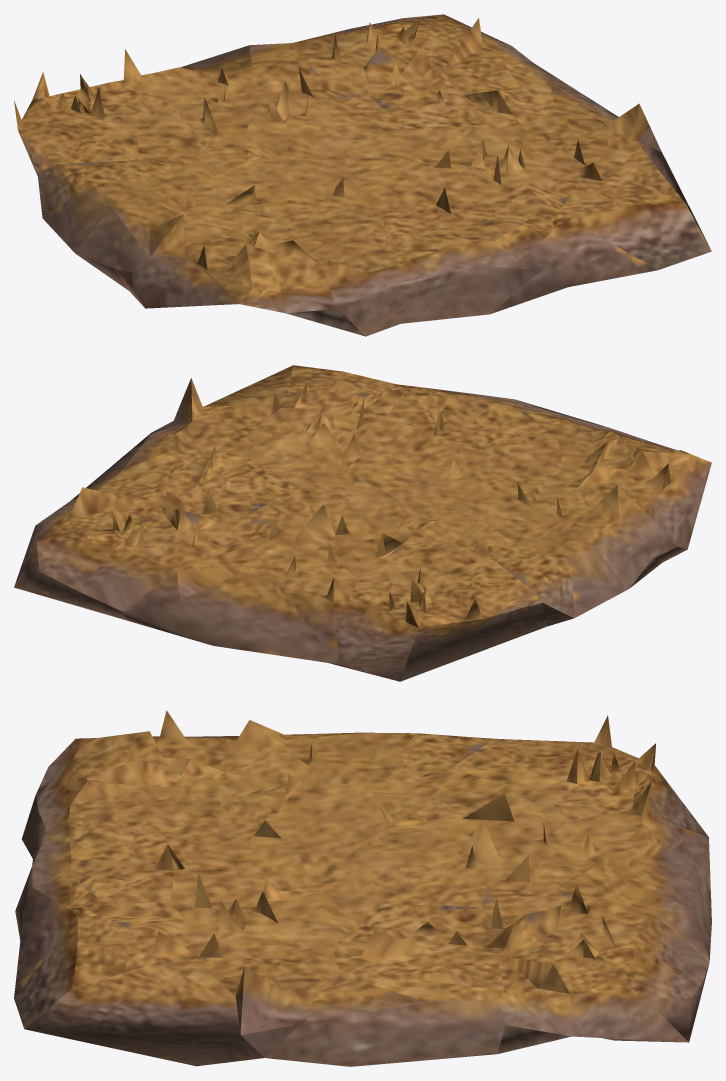
File: GrainPlot_lod.glb
3 views of the same model, one above another, from view 1: azimuth 30°, elevation 25°; view 2: azimuth 150°, elevation 25°; view 3: azimuth 270°, elevation 25° (orthographic). The views are drawn at different scales.
Parts seen in each view (by area): view 1: GrainPlot; view 2: GrainPlot; view 3: GrainPlot.
Boxes of the visible parts, left/top/right/bottom form: GrainPlot: left=14, top=14, right=711, bottom=336; GrainPlot: left=14, top=365, right=711, bottom=681; GrainPlot: left=14, top=710, right=711, bottom=1066.
Size of the model in its own units: 0.9764 by 0.2134 by 0.9815.
1 material, 1 textured.
